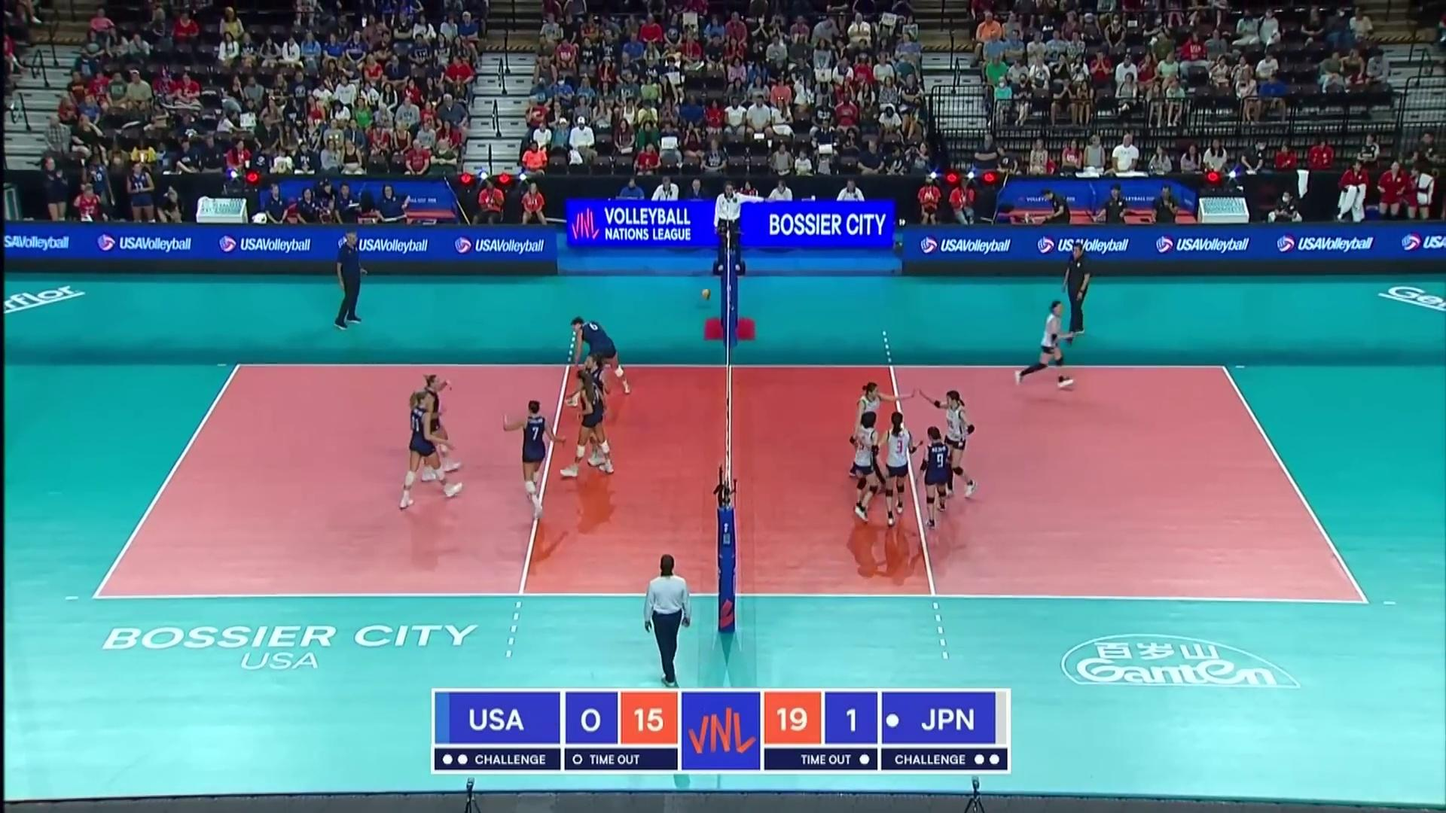player: (398, 390, 458, 509), (921, 391, 982, 506), (501, 400, 553, 520), (410, 368, 461, 483), (1015, 301, 1076, 396), (564, 316, 629, 405), (568, 370, 610, 478), (575, 352, 614, 465), (853, 381, 890, 482), (882, 409, 912, 527), (852, 405, 881, 523), (919, 424, 951, 526)
refree: (642, 554, 693, 684), (707, 180, 749, 273)
